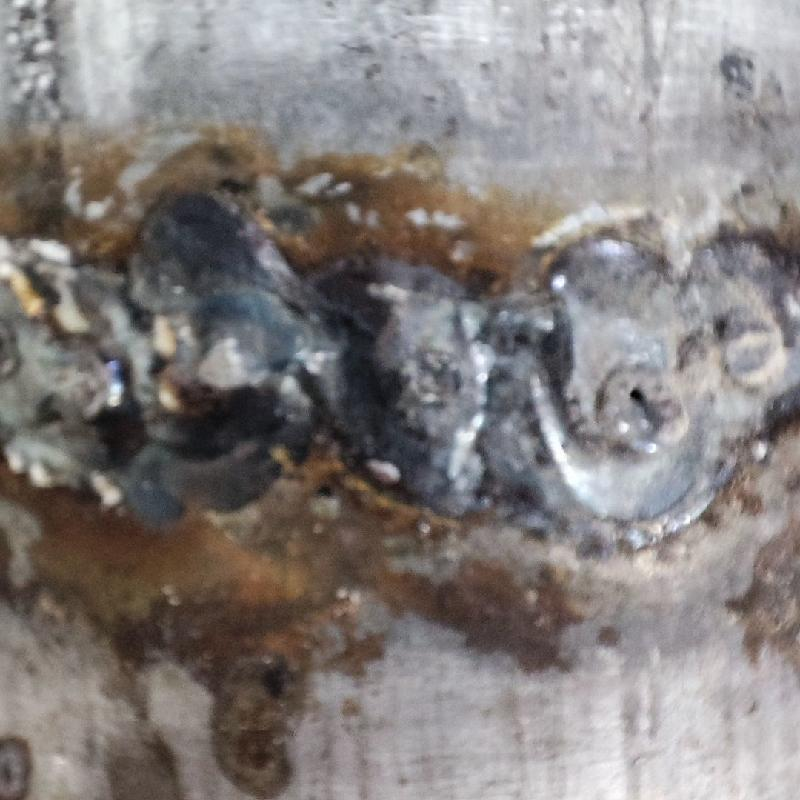Not_fully_soldered: (501, 234, 794, 542)
Surface_pores: (613, 367, 668, 424)
wrong_size: (7, 212, 493, 525)
